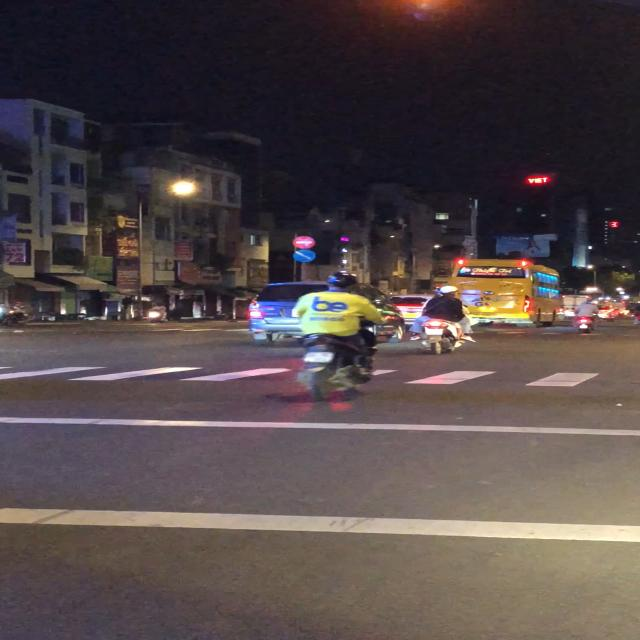Bien bao cam di nguoc chieu: (292, 235, 317, 249)
Bien bao huong phai di vong chuong ngai vat: (291, 249, 318, 263)
